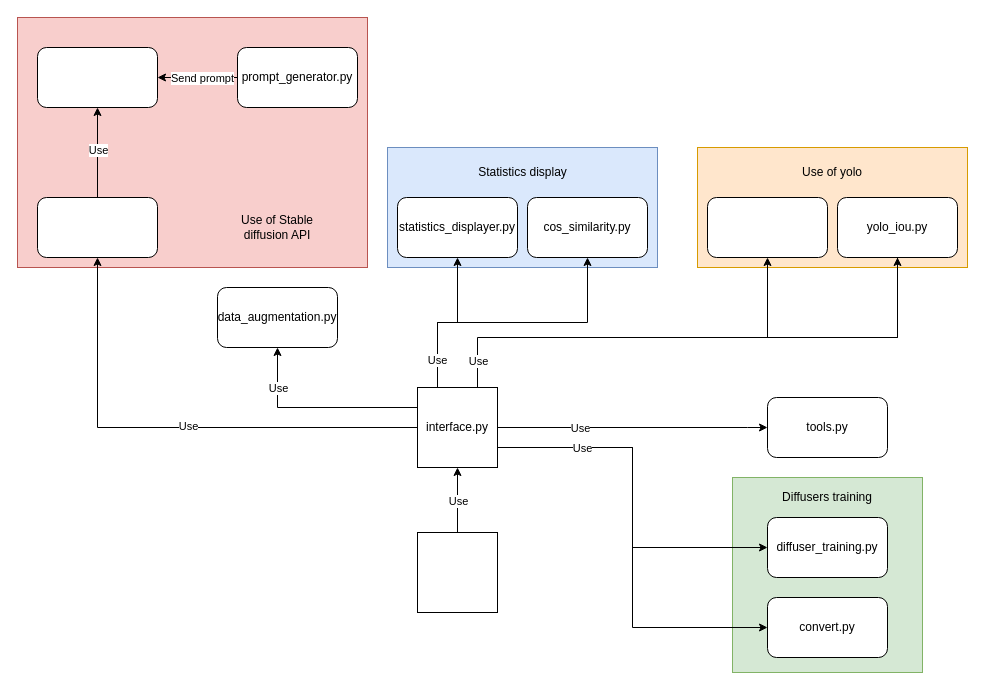
Some shapes in this 985 by 690 pixel diagram are drawn without their labels. The box of each missing label's shape, as (x1, y1, x2, y2) in pixels:
api_manager.py: (36, 196, 158, 258)
generation.py: (36, 46, 158, 108)
main.py: (416, 532, 498, 612)
yolo.py: (706, 196, 828, 258)
